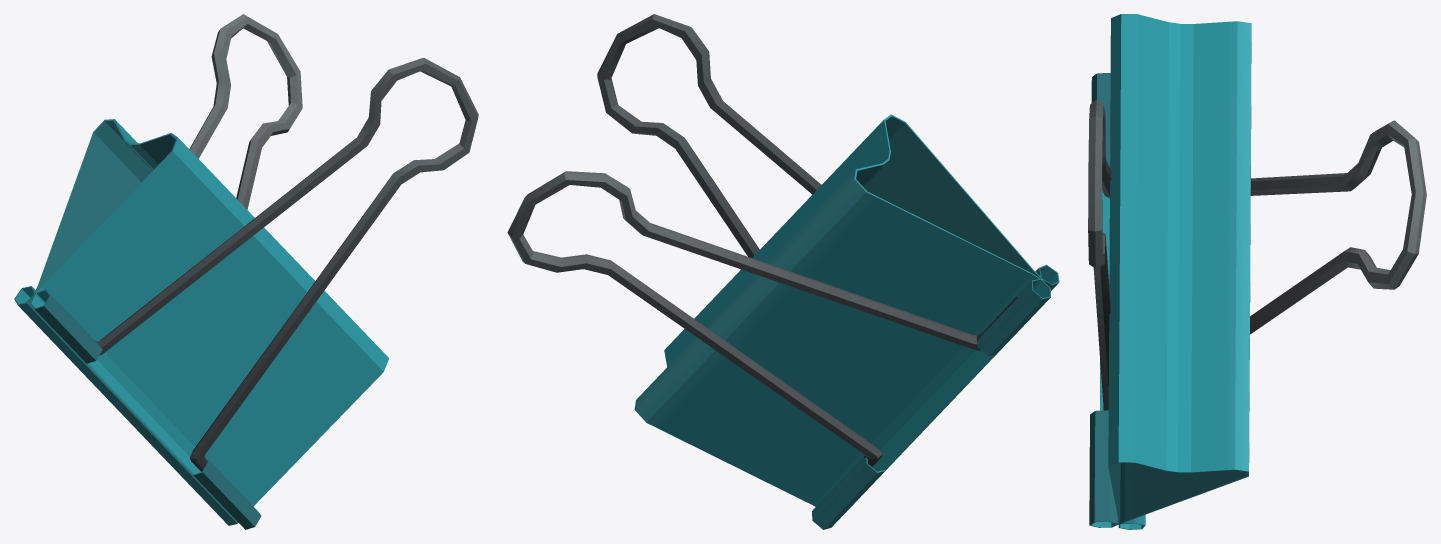
File: Jiazi.FBX
3 views of the same model, side by side, from view 1: azimuth 30°, elevation 25°; view 2: azimuth 150°, elevation 25°; view 3: azimuth 270°, elevation 25° (orthographic). The views are drawn at different scales.
Visible parts, largest first — view 1: Object021; view 2: Object021; view 3: Object021.
Part boxes in pixels (box(x1,y1,x2,y2)): Object021: box(14, 14, 478, 529); Object021: box(507, 14, 1059, 529); Object021: box(1088, 14, 1426, 529).
Bounding box in the file's own units: 5.64 × 5.24 × 3.09.
Materials: 1 (1 with a texture image).
